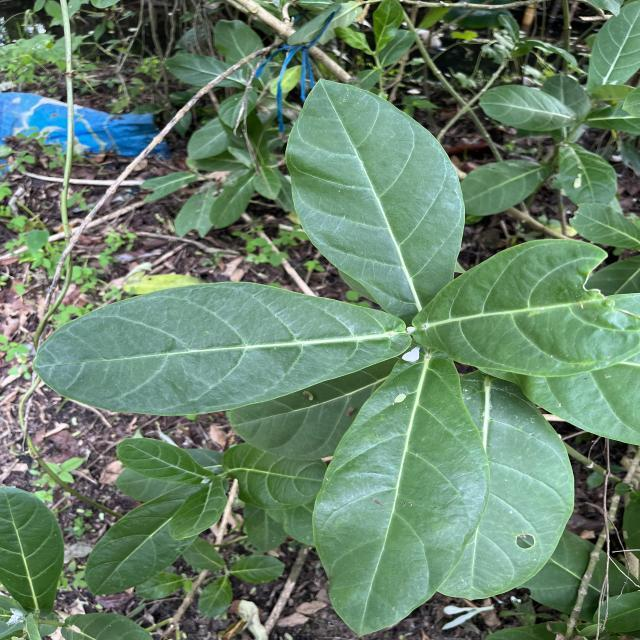Calotropis gigantea: (311, 351, 494, 640), (31, 281, 413, 418), (283, 74, 468, 313), (408, 236, 640, 379), (440, 371, 577, 603), (84, 481, 205, 597), (1, 481, 66, 617), (585, 0, 640, 95), (460, 160, 550, 216), (476, 85, 576, 132), (556, 142, 618, 208)
